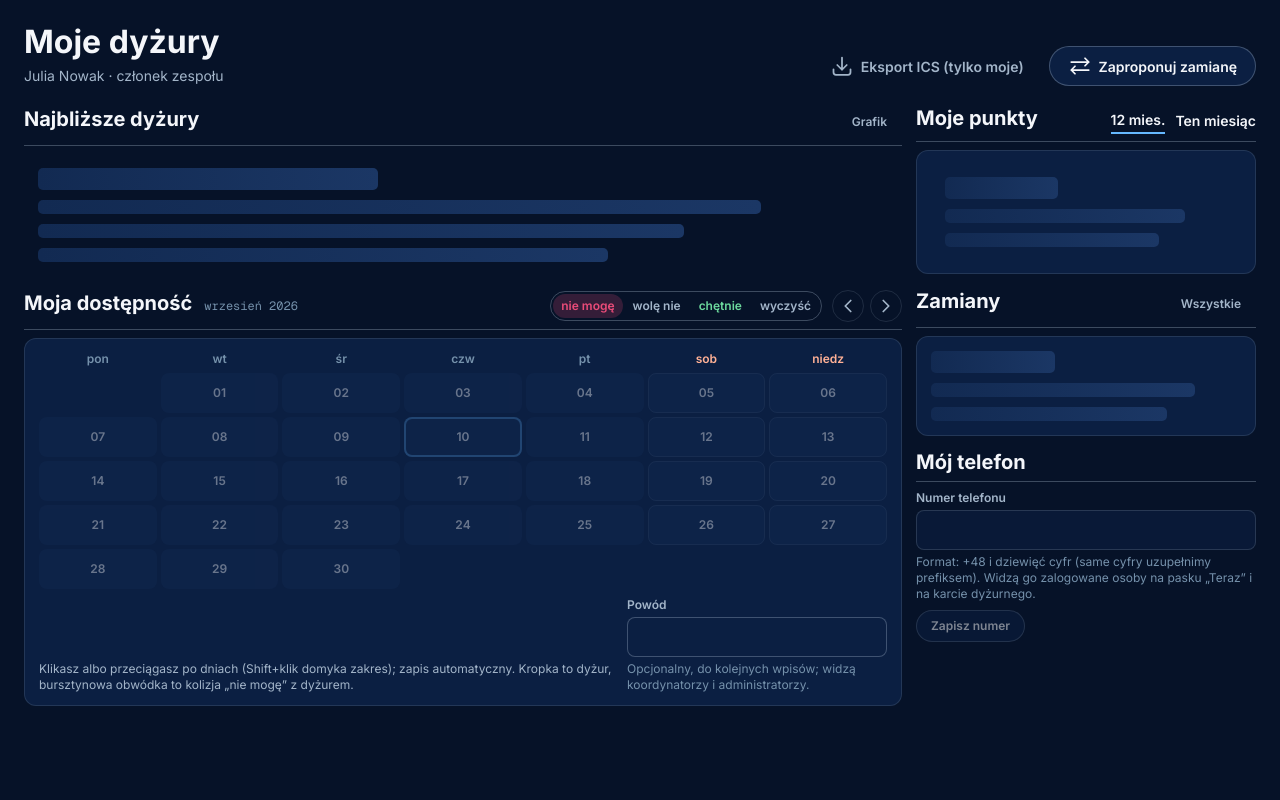
it: MineScreen ICS › closes the subscriptions panel with its close button
The width and height of the screenshot is (1280, 800).
Click the button "Eksport ICS (tylko moje)": (927, 66) x1=811 y1=46 x2=1043 y2=86
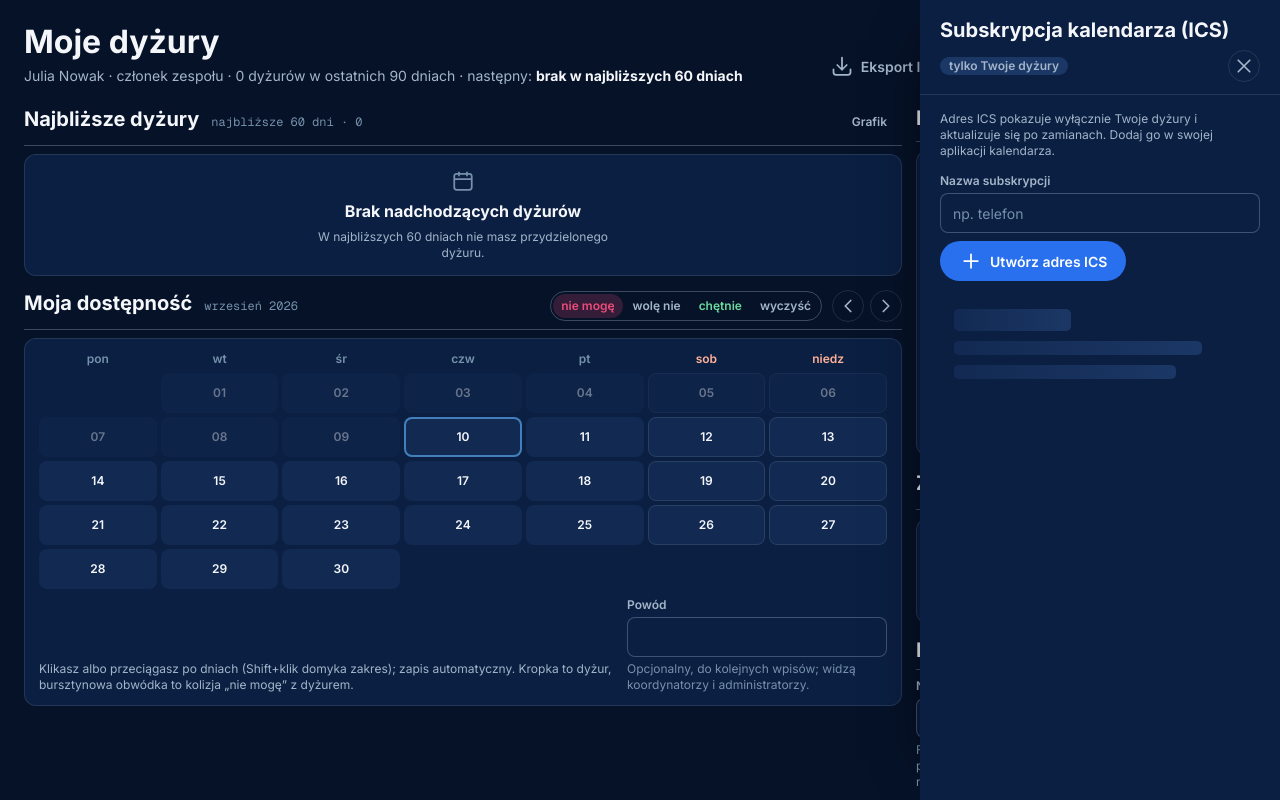
Click the button named "Zamknij panel": (1244, 66) x1=1228 y1=50 x2=1260 y2=82
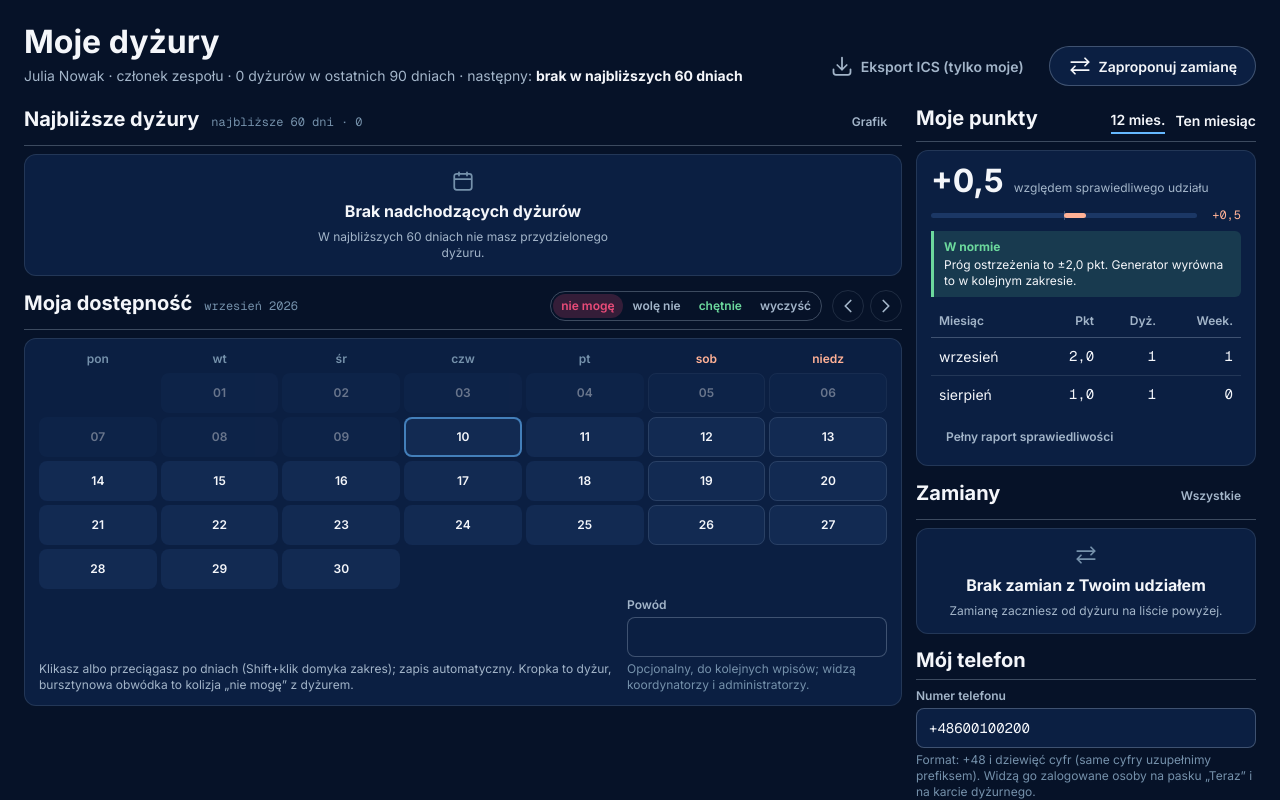
Expected: the dialog is gone
